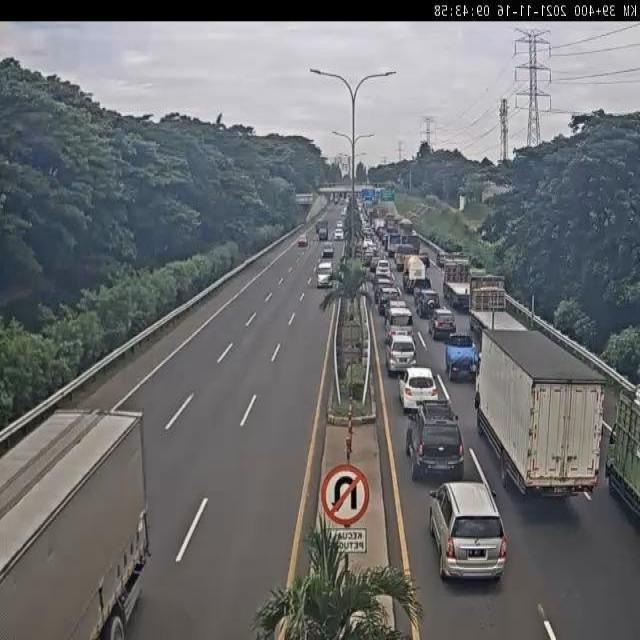Car: (429, 481, 509, 582), (405, 401, 465, 481), (398, 366, 438, 413), (444, 333, 478, 381), (385, 334, 417, 376), (428, 308, 456, 340), (385, 304, 413, 332), (414, 288, 440, 318), (387, 322, 414, 348), (378, 286, 400, 316), (374, 276, 394, 302), (317, 261, 334, 288), (376, 259, 390, 277), (322, 244, 334, 258), (298, 234, 308, 247), (335, 229, 344, 240)
Truck: (0, 408, 149, 640), (478, 330, 604, 497), (470, 275, 530, 331), (441, 260, 478, 308), (402, 251, 434, 293)
